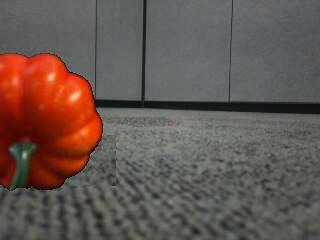Pumpkin: (0, 52, 103, 192)
